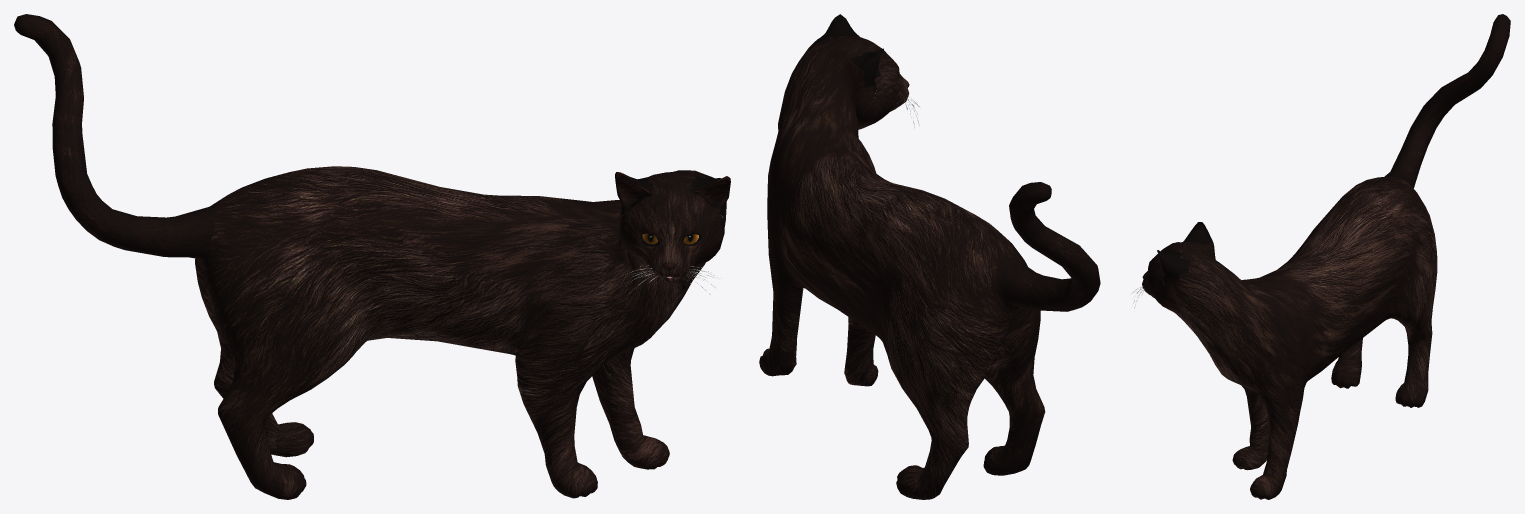
File: Yagurandi.gltf
3 renders of one model, left to right at view 1: azimuth 30°, elevation 25°; view 2: azimuth 150°, elevation 25°; view 3: azimuth 270°, elevation 25°, orthographic. The views are drawn at different scales.
Visible parts, largest first — view 1: Yaguarundi; view 2: Yaguarundi; view 3: Yaguarundi.
Part boxes in pixels (bbox=[...]): Yaguarundi: bbox=[14, 14, 730, 499]; Yaguarundi: bbox=[759, 14, 1100, 499]; Yaguarundi: bbox=[1130, 14, 1510, 499].
Bounding box in the file's own units: 5.4 × 4.58 × 4.95.
Materials: 1 (1 with a texture image).
